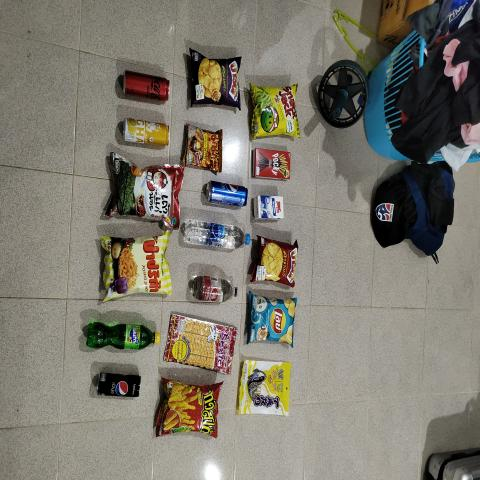bento_red: (169, 314, 232, 368)
coke_red: (121, 68, 172, 103)
crystal: (183, 220, 250, 252)
fanta_green: (84, 315, 164, 353)
lay_blue: (252, 294, 298, 346)
mama: (186, 122, 224, 169)
paprika: (99, 238, 168, 295)
party_purple: (190, 50, 244, 105)
party_red: (258, 236, 300, 284)
pepsi_black: (97, 371, 142, 397)
pepsi_blue: (208, 178, 250, 208)
pokki: (253, 148, 292, 176)
singha_soda: (192, 269, 240, 306), (123, 118, 173, 145)
snack_jack: (255, 82, 298, 135)
taokaenoi: (112, 163, 178, 214)
taro_yellow: (240, 358, 290, 414)
thai_denmark: (254, 194, 285, 218)
twisco: (159, 376, 221, 437)
